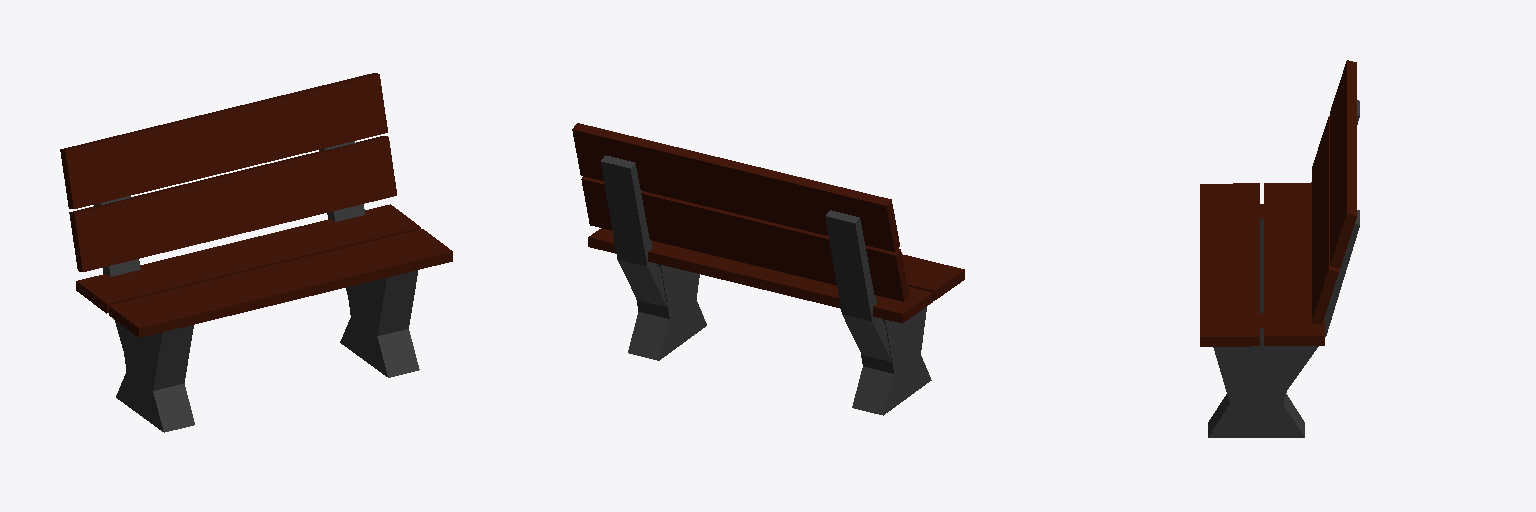
The model's file is Bench_01.obj.
3 renders of one model, left to right at view 1: azimuth 30°, elevation 25°; view 2: azimuth 150°, elevation 25°; view 3: azimuth 270°, elevation 25°, orthographic.
Visible parts, largest first — view 1: Bench_01_Cube.013; view 2: Bench_01_Cube.013; view 3: Bench_01_Cube.013.
Part boxes in pixels (bbox=[...]): Bench_01_Cube.013: bbox=[60, 73, 452, 432]; Bench_01_Cube.013: bbox=[572, 123, 964, 415]; Bench_01_Cube.013: bbox=[1200, 60, 1359, 437].
Bounding box in the file's own units: 15.8 × 11.46 × 6.99.